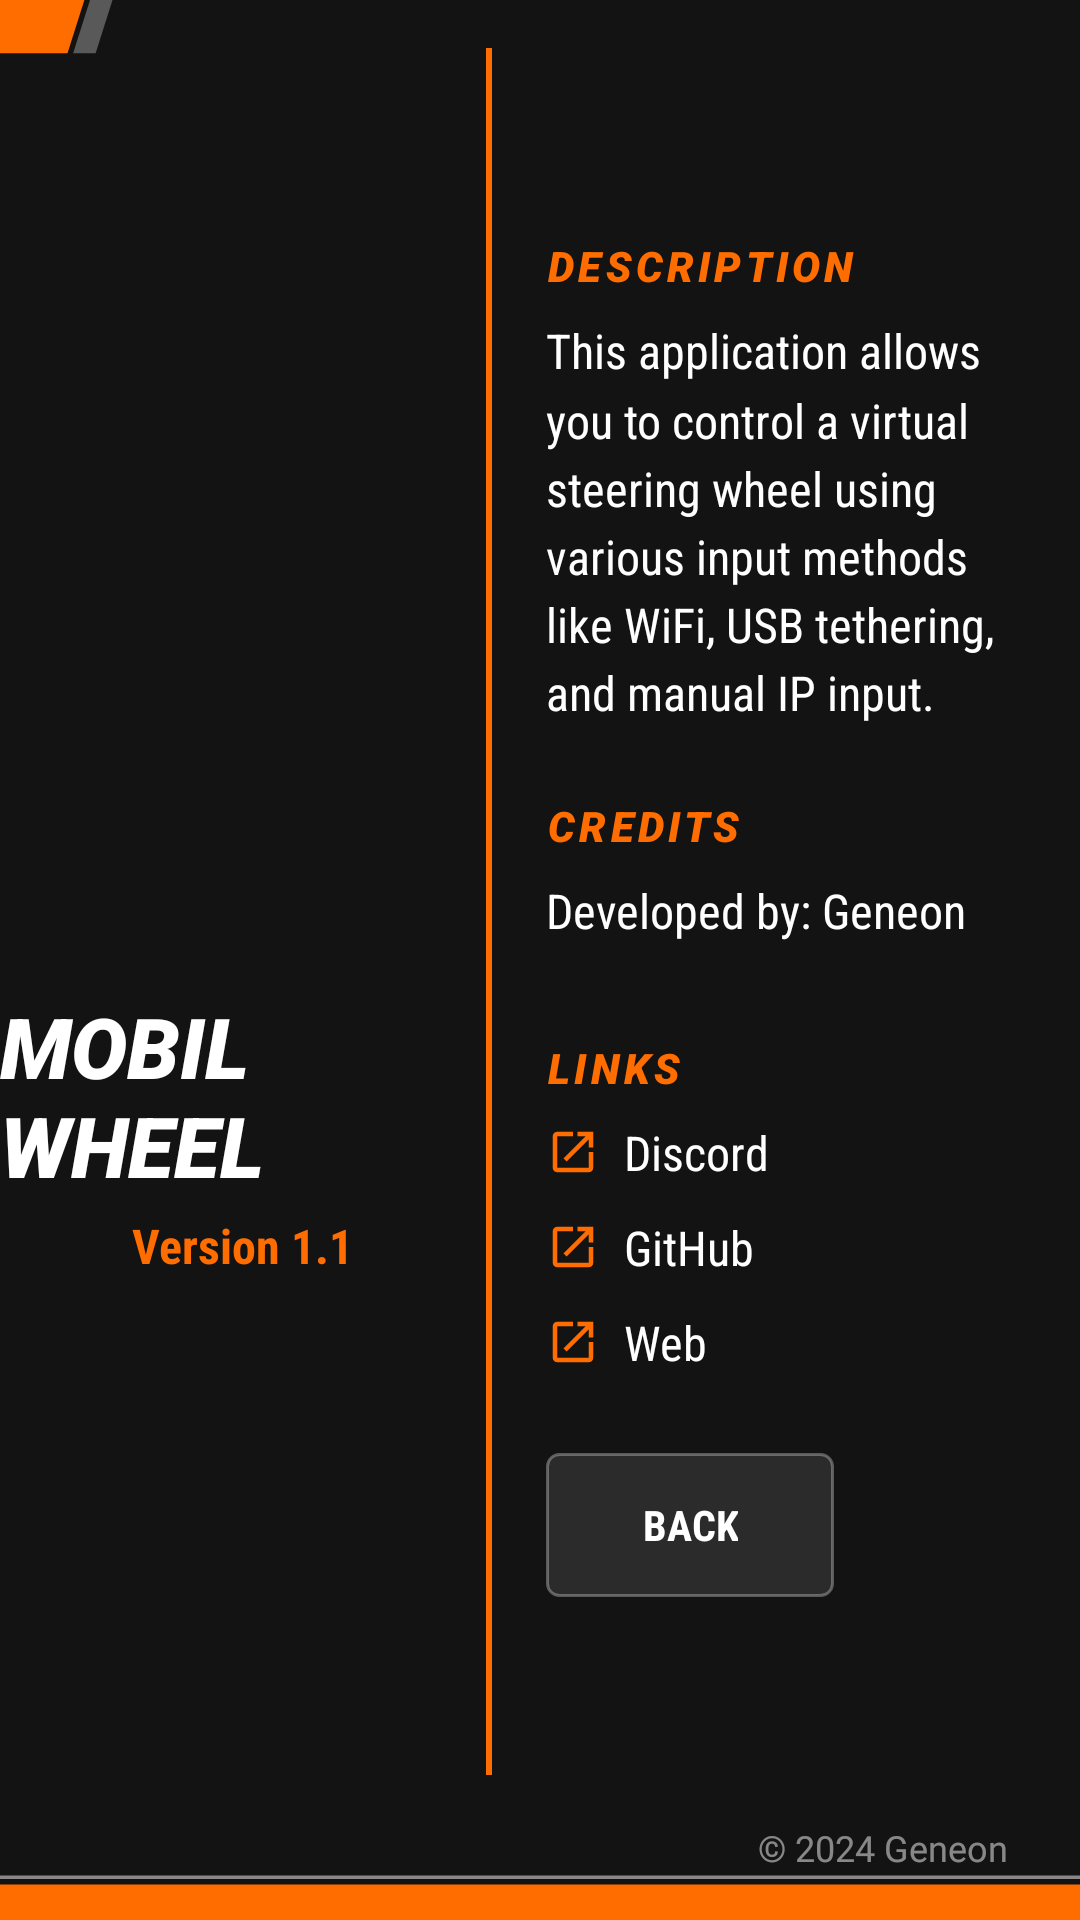

Screen size 1080*1920. Icon name, then its center in pixels as (x=x, y=y):
link external: (x=573, y=1247)
